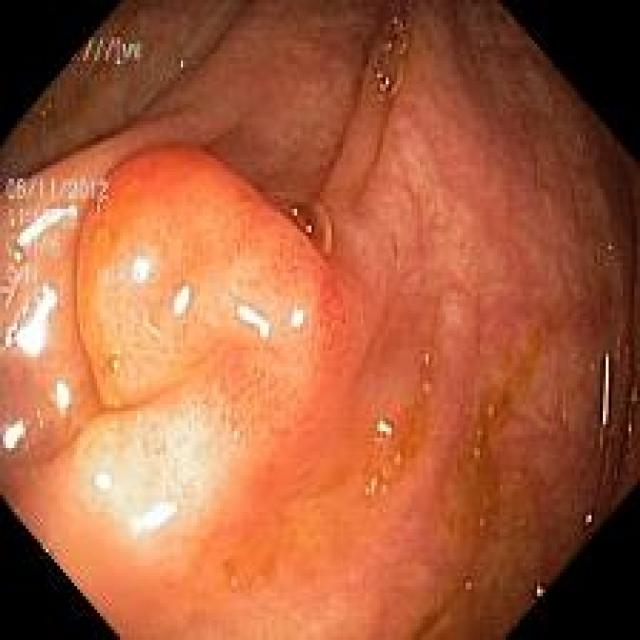Polyps: (76, 149, 346, 410)
